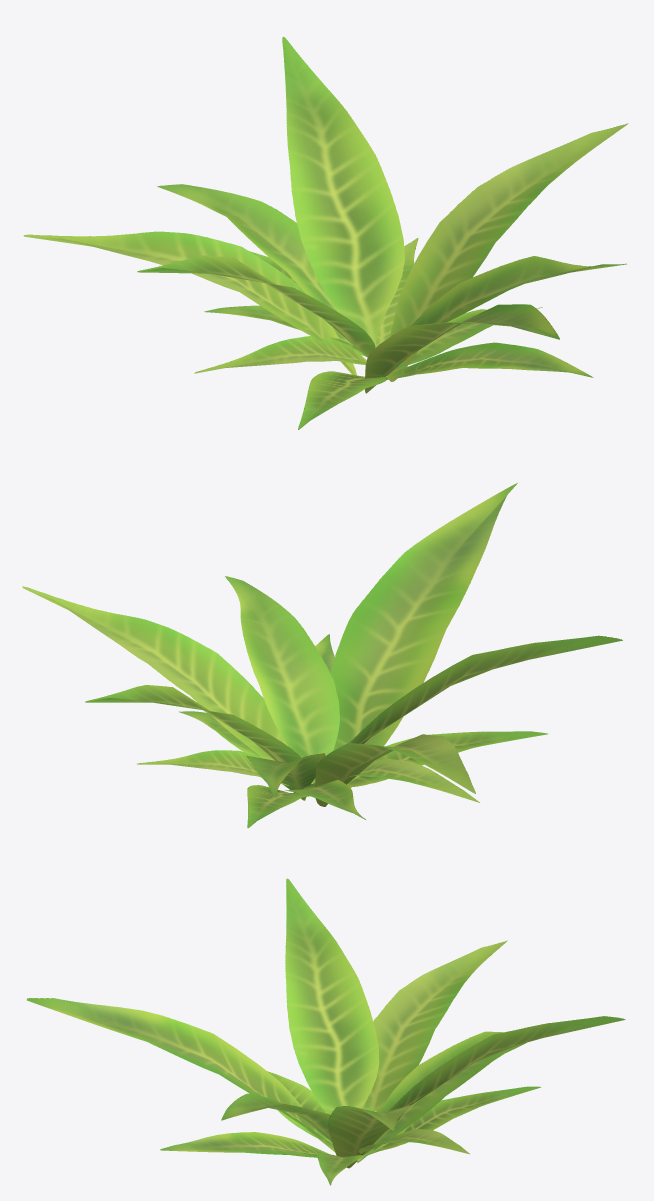
File: LillyLeafes.fbx
3 renders of one model, top to bottom at view 1: azimuth 30°, elevation 25°; view 2: azimuth 150°, elevation 25°; view 3: azimuth 270°, elevation 25°, orthographic. The views are drawn at different scales.
Parts seen in each view (by area): view 1: LillyOfTheValleyLeafes.012; view 2: LillyOfTheValleyLeafes.012; view 3: LillyOfTheValleyLeafes.012.
Part boxes in pixels (x1,y1,x2,y2): LillyOfTheValleyLeafes.012: (23, 37, 628, 429); LillyOfTheValleyLeafes.012: (22, 483, 622, 828); LillyOfTheValleyLeafes.012: (26, 878, 625, 1185).
Size of the model in its own units: 137 by 54.03 by 155.
